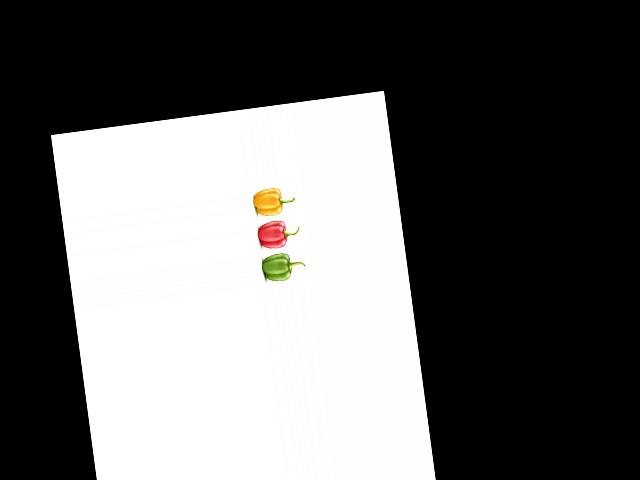bell_pepper: (258, 250, 306, 286)
